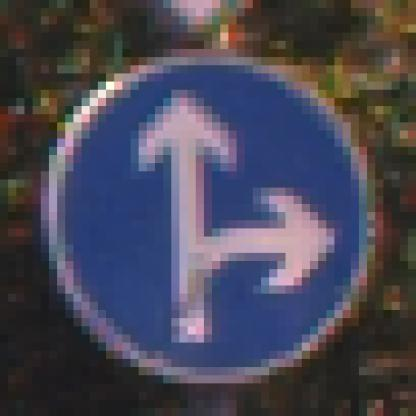Straight or Right: (42, 42, 368, 368)
